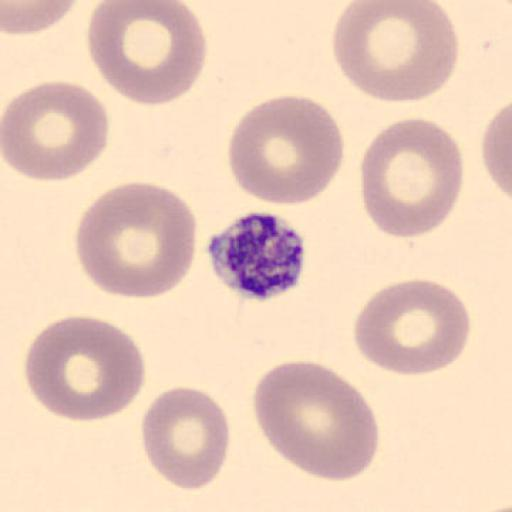Platelet: (205, 210, 310, 302)
RBC: (252, 358, 380, 484), (74, 179, 198, 301), (226, 93, 346, 207), (330, 0, 459, 106), (22, 314, 146, 424), (86, 0, 208, 109), (358, 116, 464, 240), (353, 277, 472, 377), (1, 79, 110, 183), (140, 385, 231, 492), (480, 99, 512, 202), (1, 0, 81, 37)
